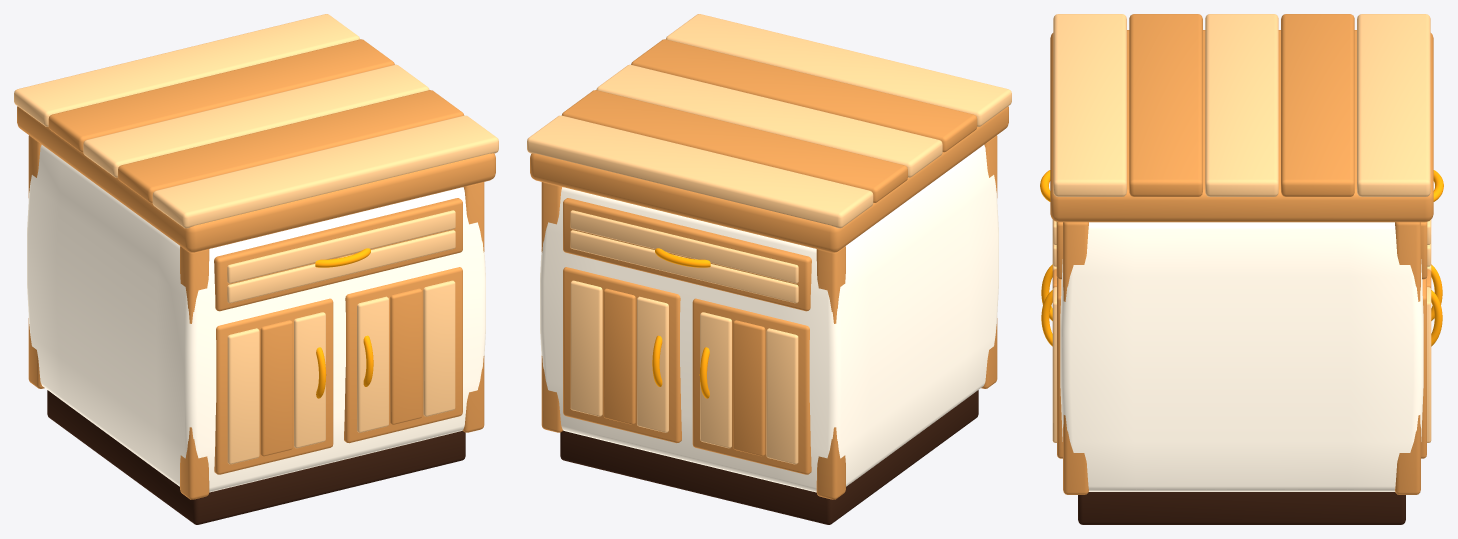
File: kitchenCabinet.glb
The picture shows the model from 3 angles, left to right: view 1: azimuth 30°, elevation 25°; view 2: azimuth 150°, elevation 25°; view 3: azimuth 270°, elevation 25°; orthographic projection. The views are drawn at different scales.
Visible parts, largest first — view 1: CounterCarcass, ButcherTopPlank_0, WoodWorktopBase, CounterPlinth, ButcherTopPlank_3, ButcherTopPlank_2, ButcherTopPlank_4, ButcherTopPlank_1, DoorFrame_-1_0, DrawerFrame_-1, DoorFrame_-1_1, DrawerPlankTop_-1 (+10 smaller); view 2: CounterCarcass, ButcherTopPlank_4, WoodWorktopBase, CounterPlinth, ButcherTopPlank_1, ButcherTopPlank_2, ButcherTopPlank_0, ButcherTopPlank_3, DoorFrame_1_0, DrawerFrame_1, DoorFrame_1_1, DrawerPlankTop_1 (+10 smaller); view 3: CounterCarcass, ButcherTopPlank_1, ButcherTopPlank_2, ButcherTopPlank_3, ButcherTopPlank_0, ButcherTopPlank_4, WoodWorktopBase, CounterPlinth, StileBR, StileFR, DoorFrame_1_1, DoorFrame_-1_1 (+2 smaller).
Boxes of the visible parts, x1,y1,x2,y2 form: CounterCarcass: (27, 145, 485, 492); ButcherTopPlank_0: (152, 115, 498, 228); WoodWorktopBase: (17, 106, 495, 252); CounterPlinth: (47, 390, 465, 524); ButcherTopPlank_3: (48, 39, 394, 152); ButcherTopPlank_2: (83, 64, 429, 177); ButcherTopPlank_4: (14, 14, 359, 126); ButcherTopPlank_1: (118, 90, 463, 202); DoorFrame_-1_0: (214, 298, 333, 474); DrawerFrame_-1: (214, 198, 462, 311); DoorFrame_-1_1: (344, 267, 462, 443); DrawerPlankTop_-1: (227, 210, 455, 283); CounterCarcass: (540, 145, 998, 492); ButcherTopPlank_4: (527, 115, 873, 228); WoodWorktopBase: (530, 106, 1008, 252); CounterPlinth: (560, 390, 978, 524); ButcherTopPlank_1: (631, 39, 977, 152); ButcherTopPlank_2: (596, 64, 942, 177); ButcherTopPlank_0: (666, 14, 1011, 126); ButcherTopPlank_3: (562, 90, 907, 202); DoorFrame_1_0: (692, 298, 811, 474); DrawerFrame_1: (563, 198, 811, 311); DoorFrame_1_1: (563, 267, 681, 443); DrawerPlankTop_1: (570, 210, 798, 283); CounterCarcass: (1060, 222, 1423, 491); ButcherTopPlank_1: (1129, 14, 1202, 196); ButcherTopPlank_2: (1205, 14, 1278, 196); ButcherTopPlank_3: (1281, 14, 1354, 196); ButcherTopPlank_0: (1053, 14, 1126, 196); ButcherTopPlank_4: (1357, 14, 1430, 196); WoodWorktopBase: (1050, 30, 1433, 222); CounterPlinth: (1078, 492, 1405, 524); StileBR: (1395, 222, 1420, 494); StileFR: (1063, 222, 1088, 494); DoorFrame_1_1: (1421, 277, 1426, 458); DoorFrame_-1_1: (1057, 277, 1062, 458).
Size of the model in its own units: 1 by 0.986 by 1.01.
